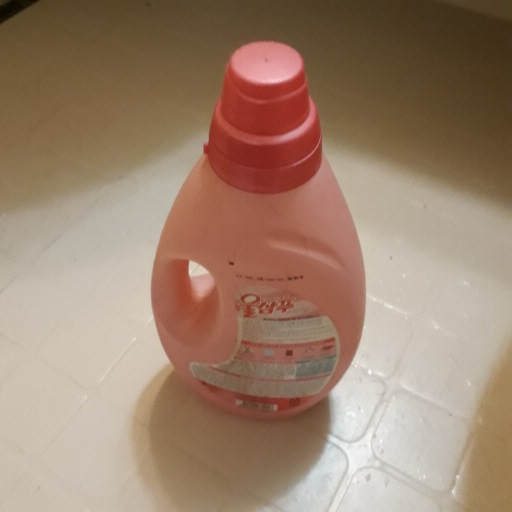Plastic_1: (151, 41, 374, 419)
